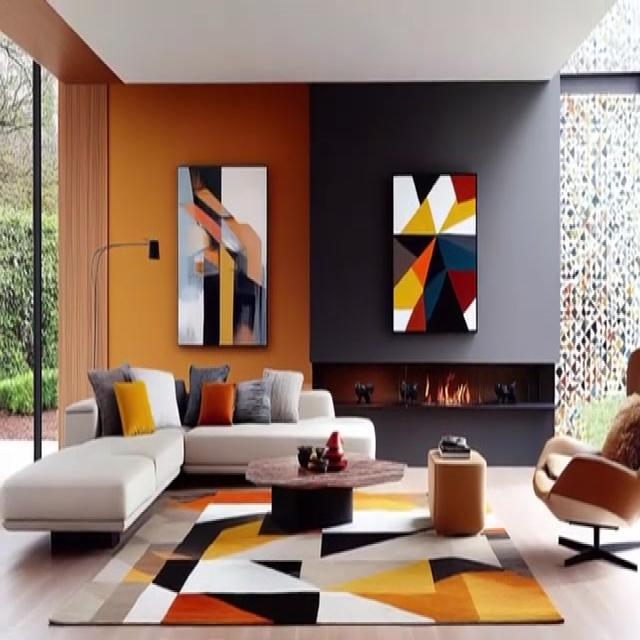obstacle: (0, 370, 376, 530), (532, 347, 639, 570), (244, 449, 406, 532), (430, 433, 485, 532)
